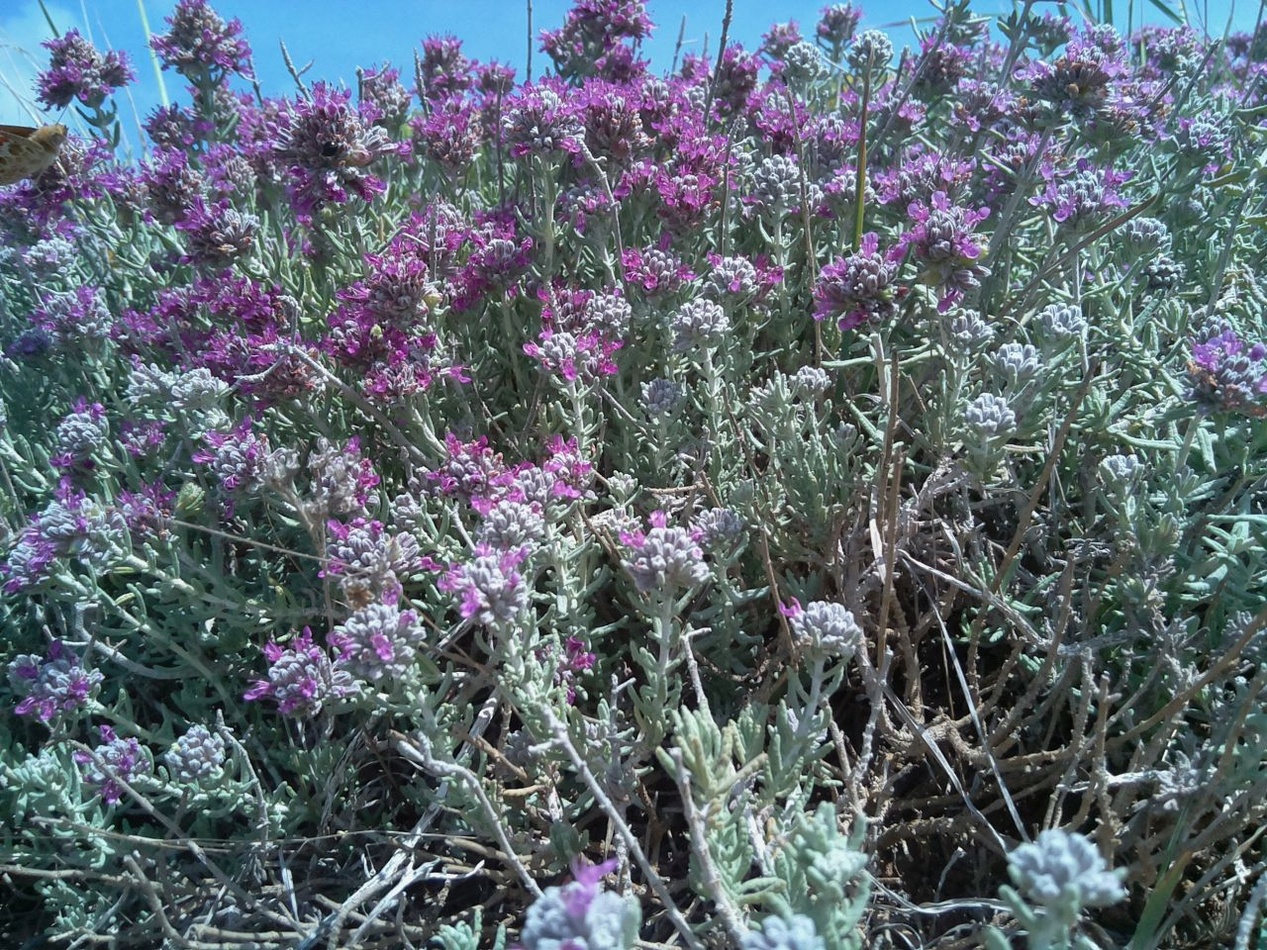Butterfly: (2, 115, 99, 201)
